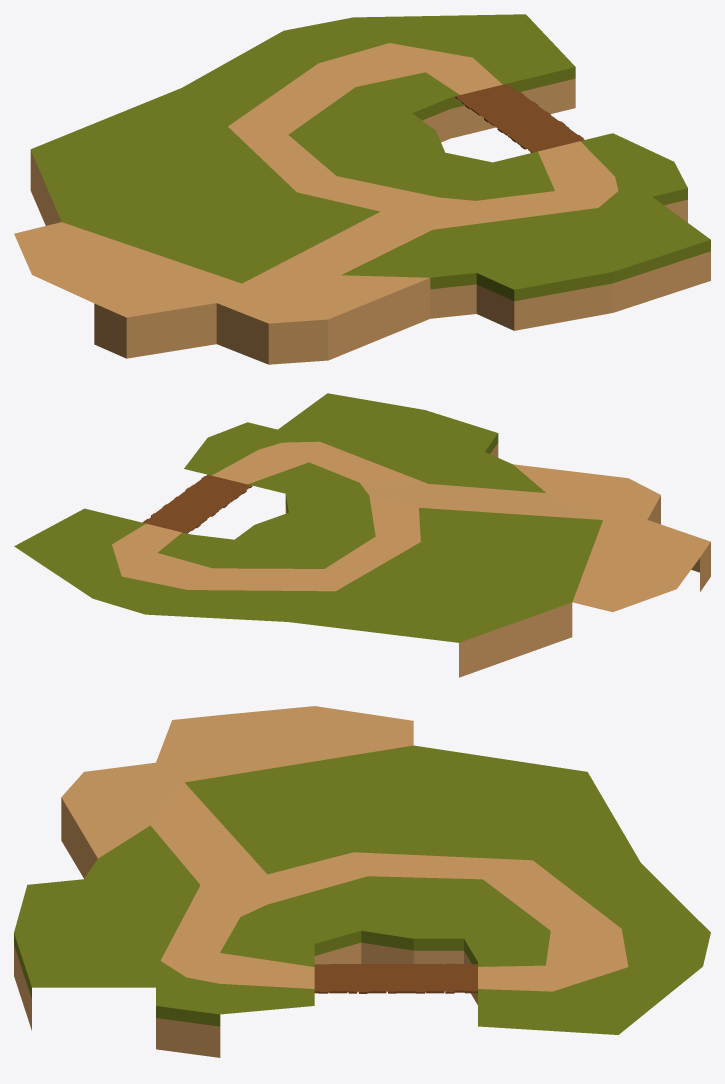
The model's file is Scena_2.fbx.
The picture shows the model from 3 angles, top to bottom: view 1: azimuth 30°, elevation 25°; view 2: azimuth 150°, elevation 25°; view 3: azimuth 270°, elevation 25°; orthographic projection. The views are drawn at different scales.
Visible parts, largest first — view 1: Куб.005; view 2: Куб.005; view 3: Куб.005.
Part boxes in pixels (bbox=[...]): Куб.005: bbox=[14, 14, 710, 364]; Куб.005: bbox=[14, 393, 710, 677]; Куб.005: bbox=[14, 706, 710, 1057].
Bounding box in the file's own units: 876 × 54.12 × 784.
